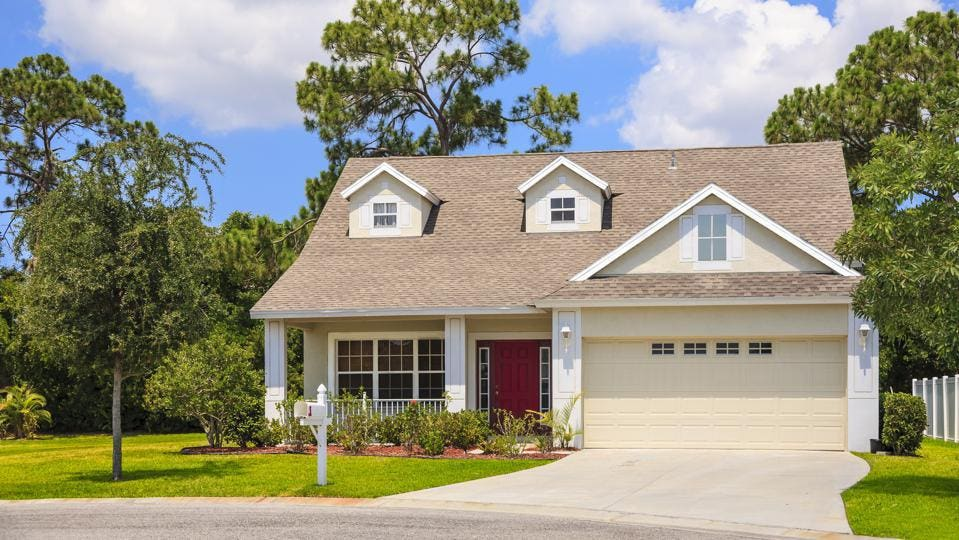Window: (332, 334, 442, 398), (694, 211, 730, 261), (537, 345, 552, 409), (546, 196, 578, 222), (478, 348, 490, 411), (372, 203, 398, 224), (747, 340, 774, 354), (683, 340, 709, 353), (715, 342, 740, 354), (652, 341, 675, 353)
